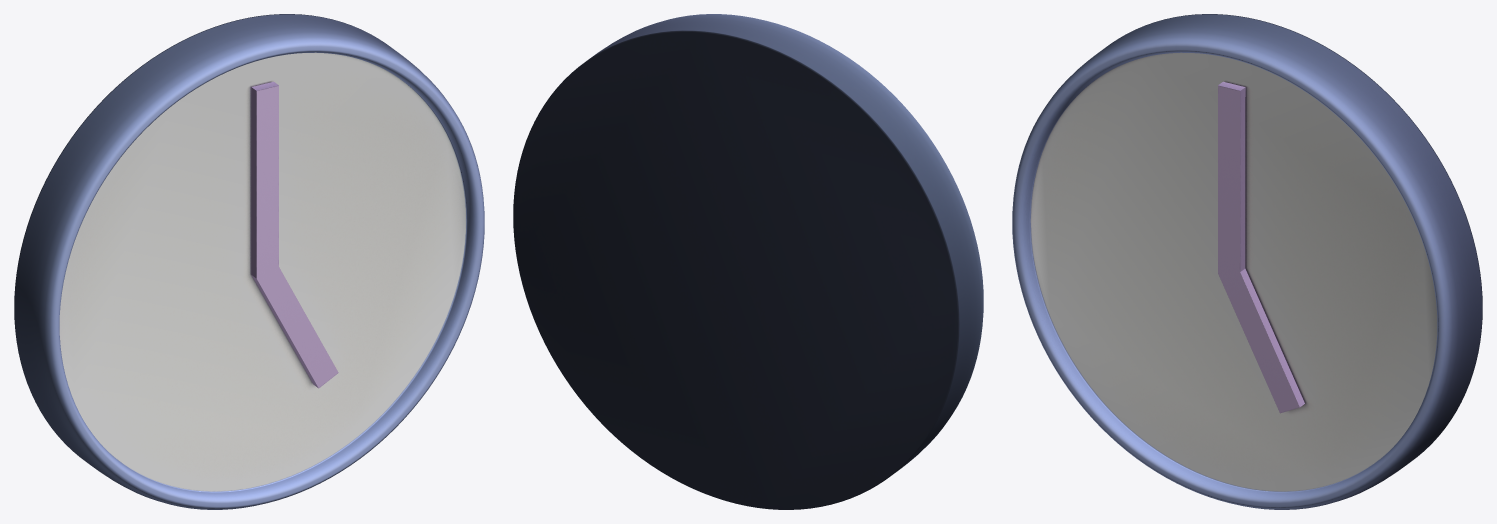
The model's file is clock.glb.
The picture shows the model from 3 angles, left to right: view 1: azimuth 30°, elevation 25°; view 2: azimuth 150°, elevation 25°; view 3: azimuth 330°, elevation 25°; orthographic projection.
Parts seen in each view (by area): view 1: Cube; view 2: Cube; view 3: Cube.
Part boxes in pixels (x1,y1,x2,y2): Cube: (14,14,484,509); Cube: (513,14,983,509); Cube: (1012,14,1482,509).
Bounding box in the file's own units: 1.99 × 1.99 × 0.2476.
Materials: 1 (1 with a texture image).
